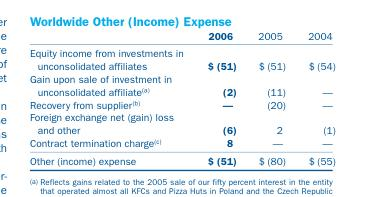table: (28, 29, 334, 166)
table column: (28, 29, 194, 166), (194, 29, 246, 166), (246, 29, 296, 166), (296, 29, 334, 166)
table column header: (28, 29, 334, 44)
table row: (28, 44, 334, 72), (28, 72, 334, 97), (28, 110, 334, 135), (28, 135, 334, 151), (28, 29, 334, 44), (28, 151, 334, 166), (28, 97, 334, 110)
